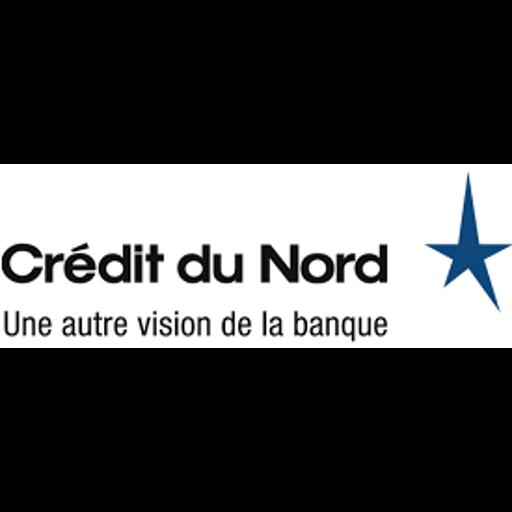Credit du Nord: (0, 164, 512, 348)
